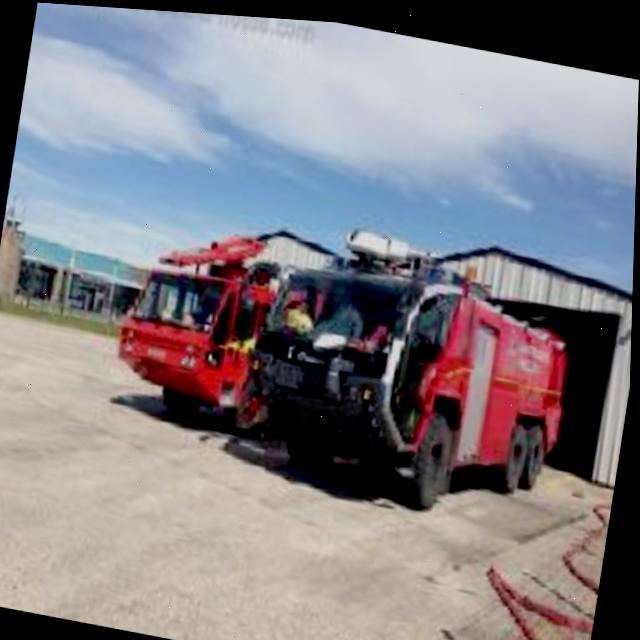emergency: (257, 226, 576, 511), (116, 225, 355, 449)
